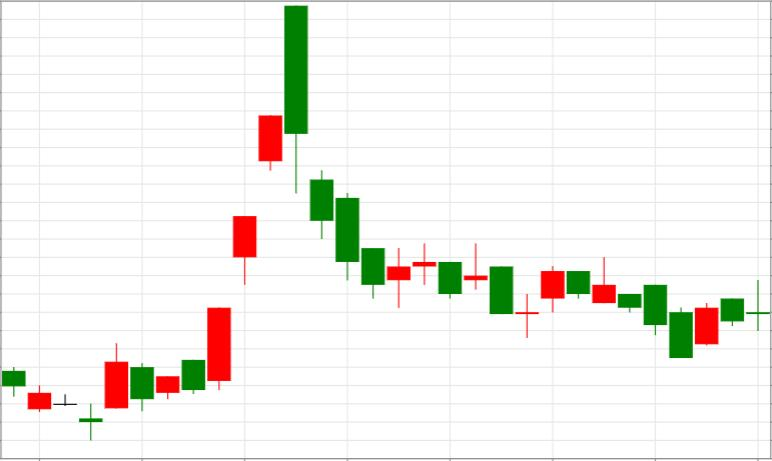morning_star_rise: (284, 6, 565, 338)
